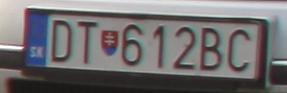1: (153, 24, 166, 69)
2: (174, 26, 195, 70)
6: (121, 23, 143, 65)
B: (200, 27, 221, 71)
C: (227, 28, 250, 71)
D: (48, 19, 73, 63)
T: (78, 19, 98, 65)
